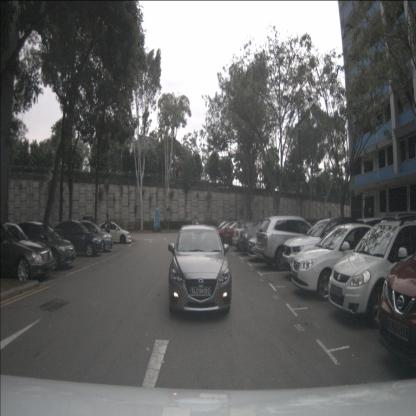human-pedestrian-adult: (104, 213, 111, 249), (194, 216, 199, 260)
vehicle-car: (328, 211, 416, 328), (291, 223, 412, 302), (168, 224, 232, 317), (282, 218, 369, 280), (376, 250, 416, 368), (256, 214, 327, 272), (5, 221, 76, 272), (0, 221, 54, 284), (247, 222, 301, 262), (238, 219, 293, 257), (49, 220, 104, 257), (66, 220, 113, 252), (233, 219, 266, 251), (96, 221, 132, 245), (224, 221, 258, 245), (215, 221, 248, 244)
